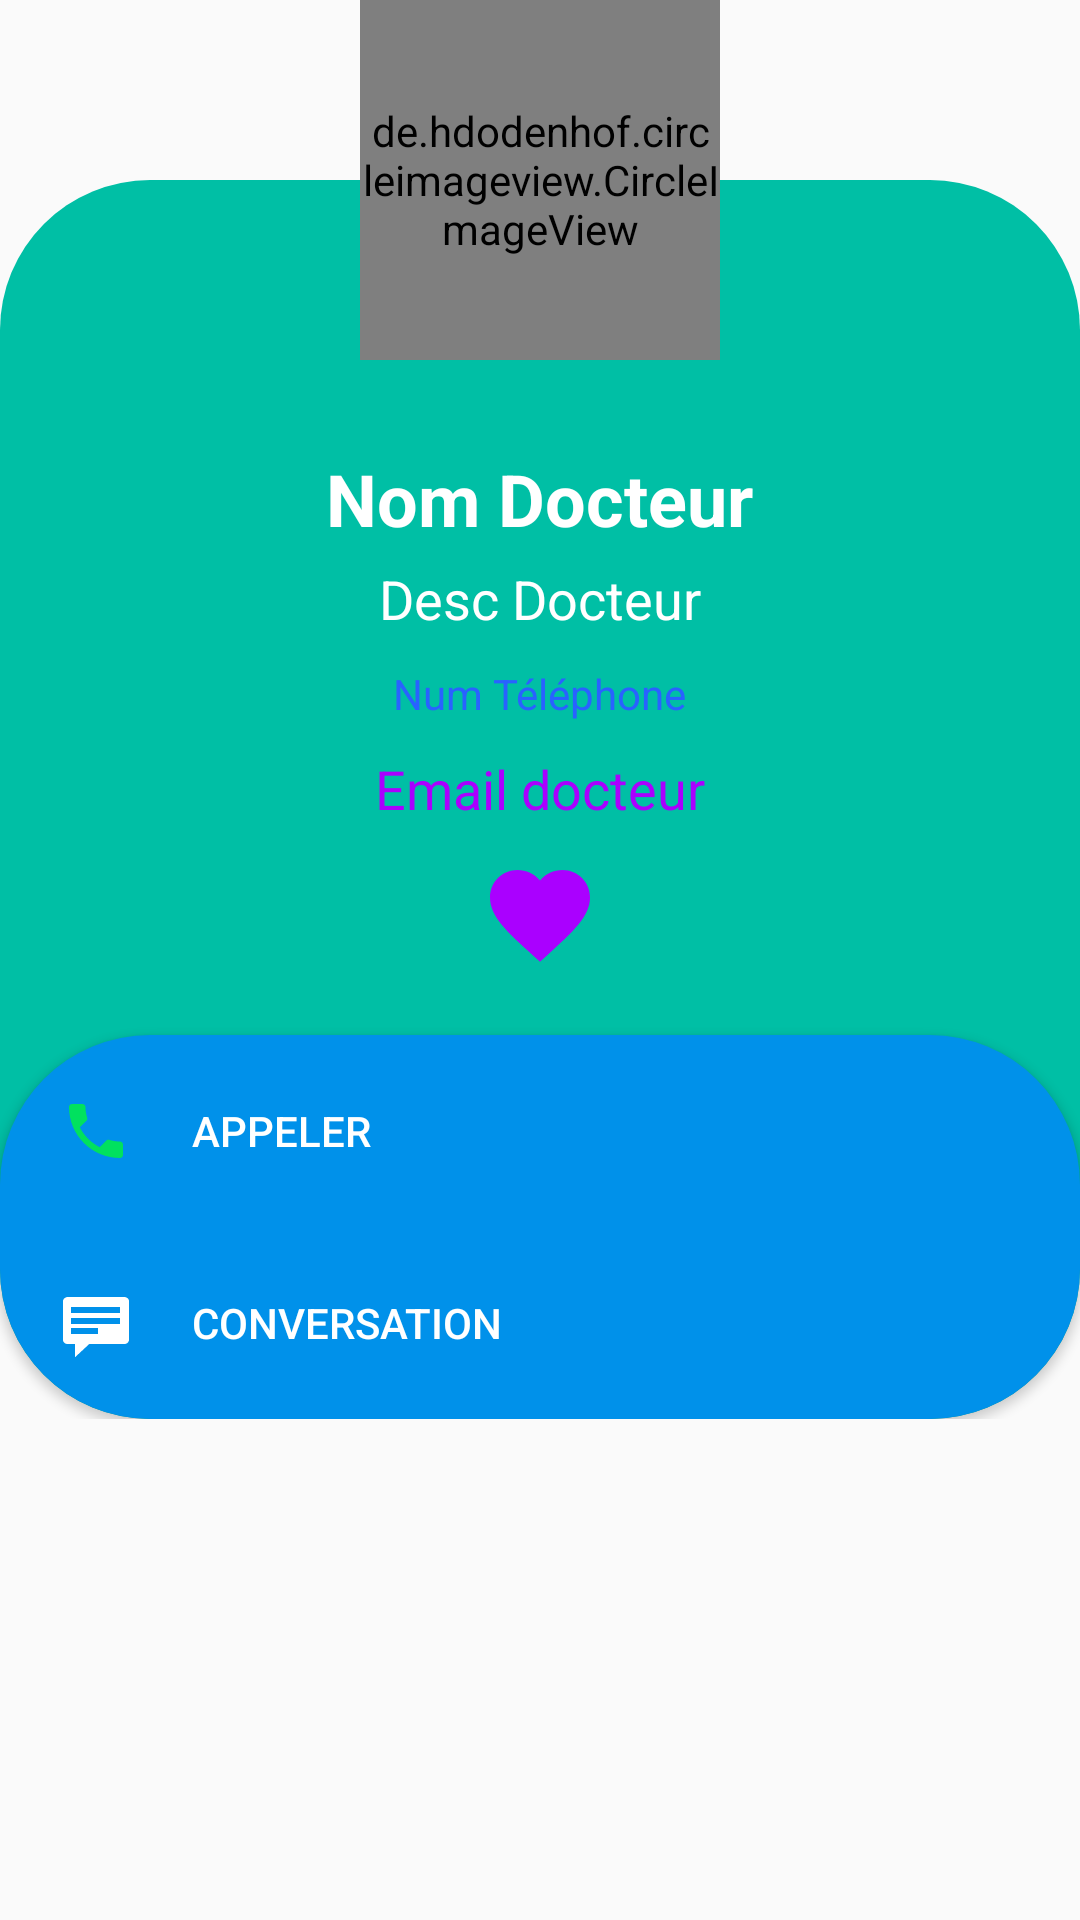

Icons on this 1080px×1920px Android screen, each with its box as (x1, y1, x2, y2):
favorite: (490, 870, 590, 962)
